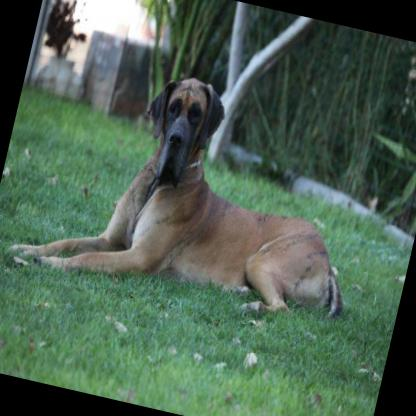Great_Dane: (6, 44, 384, 334)
